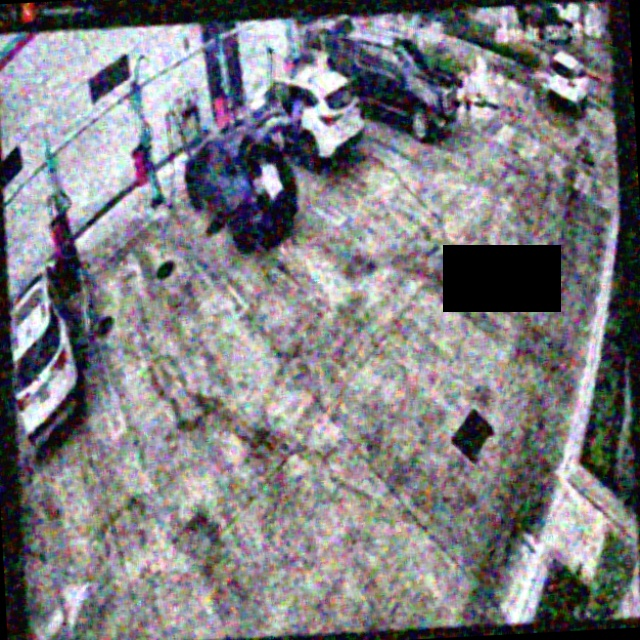Car: (180, 104, 301, 251), (246, 66, 363, 170)
